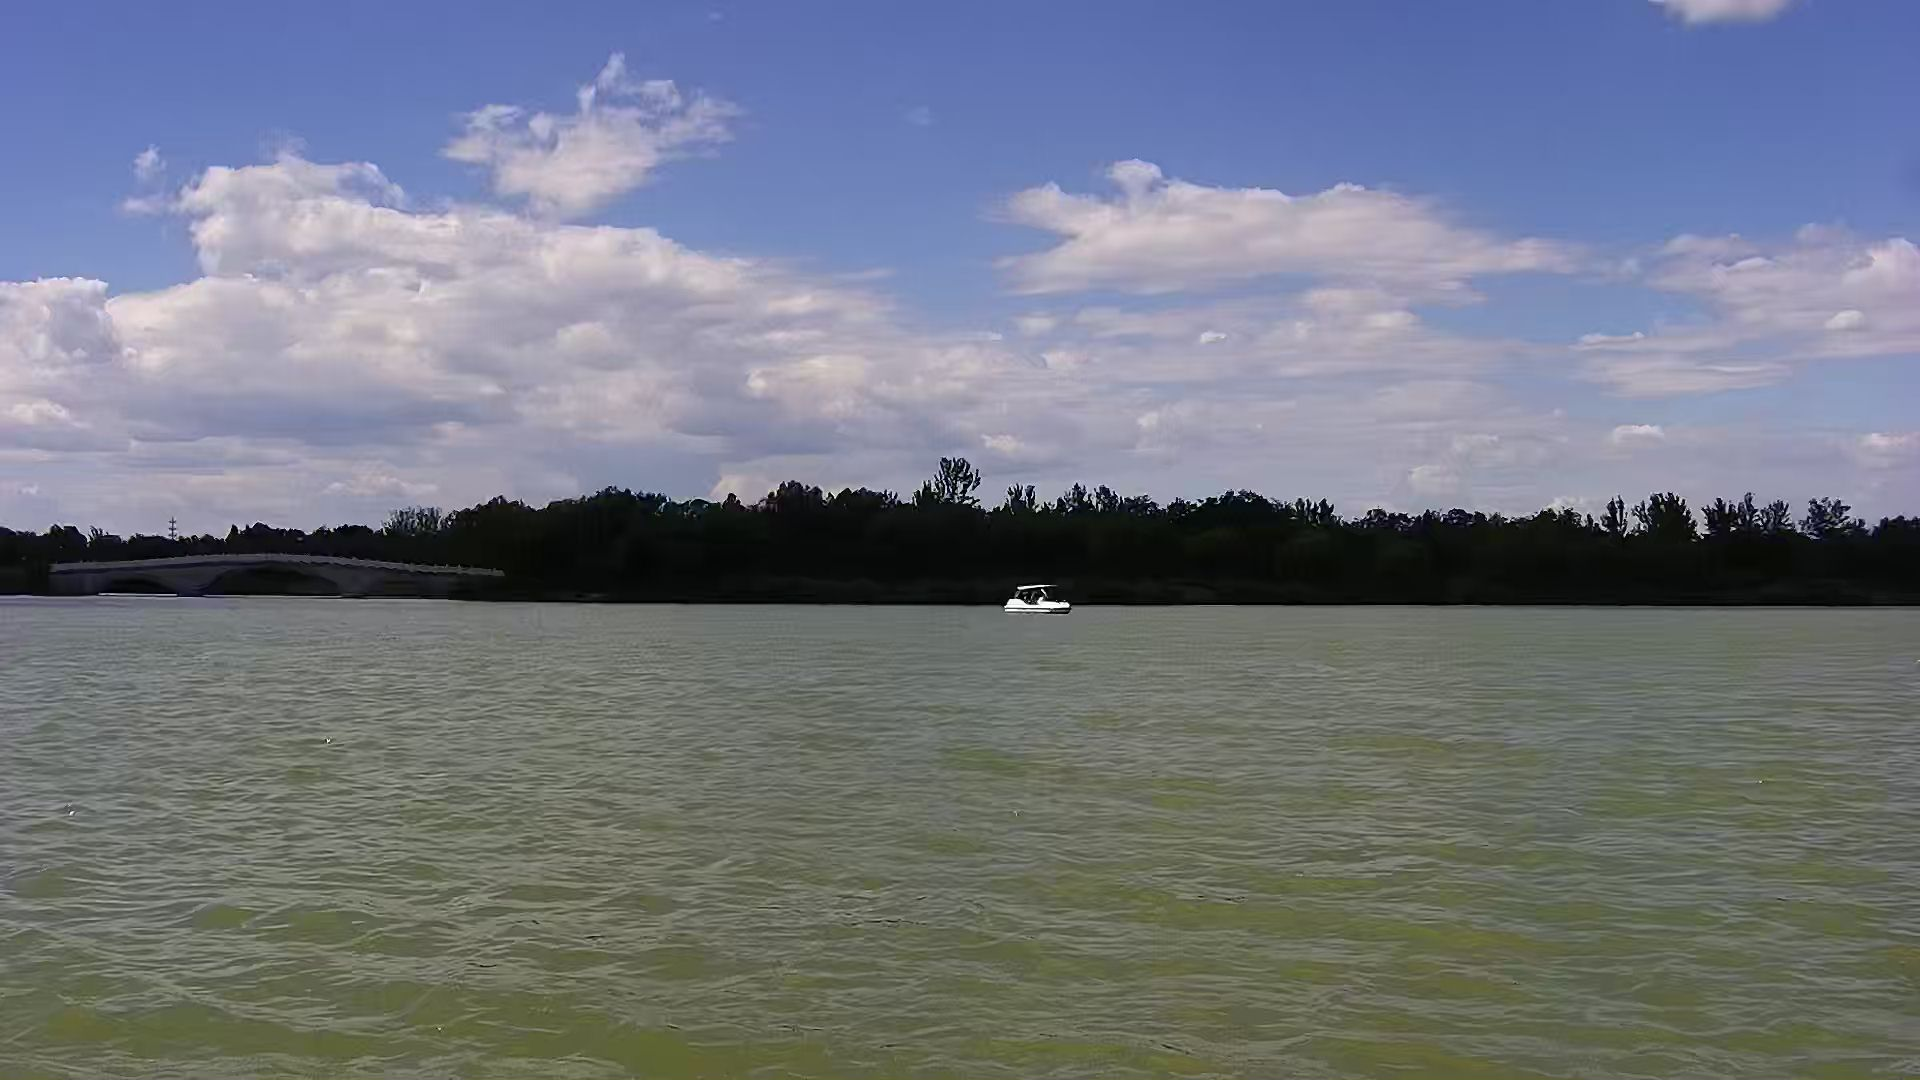boat: (1002, 578, 1080, 626)
bridge: (36, 550, 512, 599)
